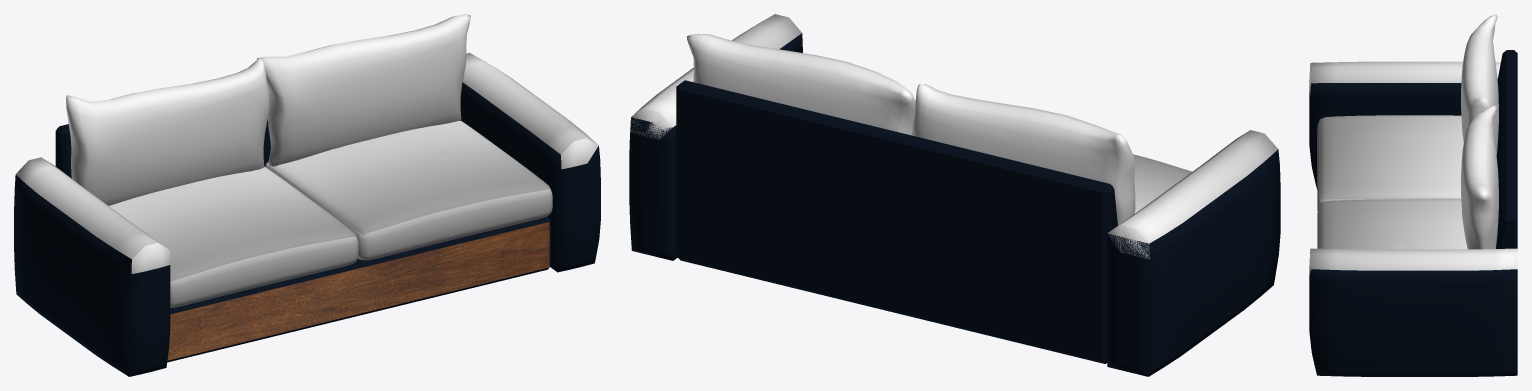
File: SofaNivel2.fbx
3 renders of one model, left to right at view 1: azimuth 30°, elevation 25°; view 2: azimuth 150°, elevation 25°; view 3: azimuth 270°, elevation 25°, orthographic. The views are drawn at different scales.
Parts seen in each view (by area): view 1: Cube.001; view 2: Cube.001; view 3: Cube.001.
Part boxes in pixels (x1,y1,x2,y2): Cube.001: [14, 14, 600, 376]; Cube.001: [629, 14, 1280, 376]; Cube.001: [1309, 14, 1517, 376].
Size of the model in its own units: 409 by 162 by 174.
2 materials, 2 textured.
